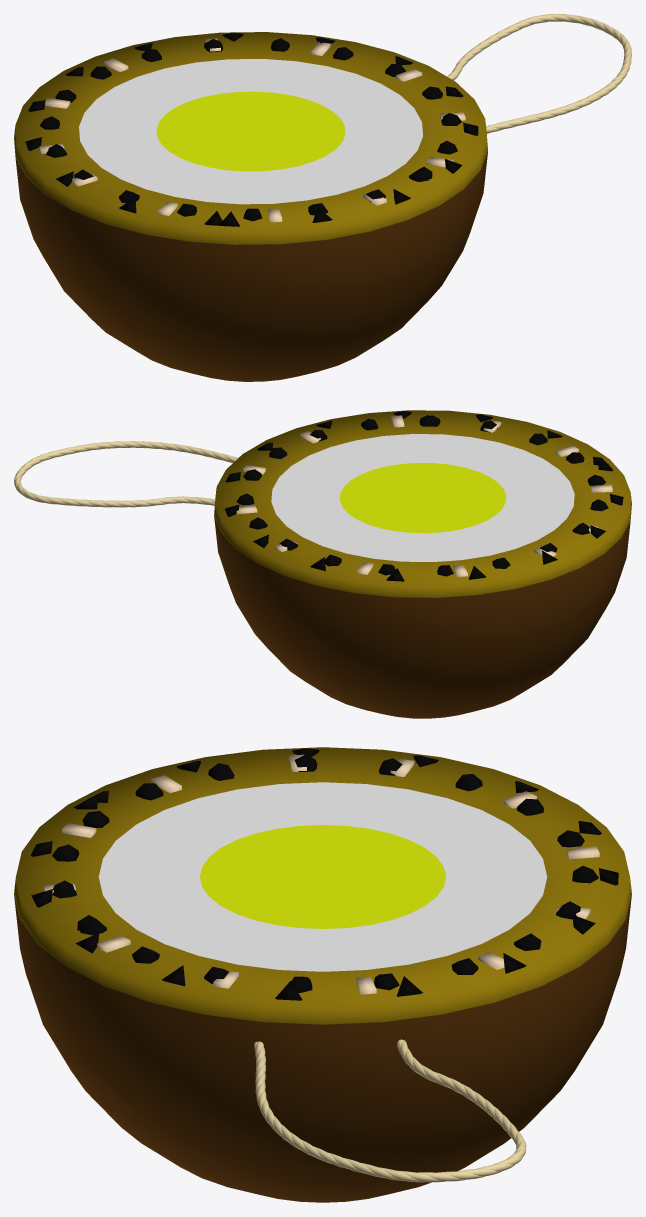
File: Kleierbal.fbx
3 views of the same model, one above another, from view 1: azimuth 30°, elevation 25°; view 2: azimuth 150°, elevation 25°; view 3: azimuth 270°, elevation 25° (orthographic). The views are drawn at different scales.
Parts seen in each view (by area): view 1: Eierbal, Seed1, Rope, Seed2, Seed3; view 2: Eierbal, Rope, Seed1, Seed2, Seed3; view 3: Eierbal, Seed1, Rope, Seed2, Seed3.
Part boxes in pixels (<box>): Eierbal: <box>14,32,487,381</box>; Seed1: <box>39,38,461,221</box>; Rope: <box>447,14,631,133</box>; Seed2: <box>25,32,478,226</box>; Seed3: <box>39,38,465,222</box>; Eierbal: <box>214,410,631,718</box>; Rope: <box>14,441,238,507</box>; Seed1: <box>236,415,608,576</box>; Seed2: <box>225,411,623,581</box>; Seed3: <box>236,415,612,576</box>; Eierbal: <box>14,747,631,1202</box>; Seed1: <box>52,755,598,992</box>; Rope: <box>254,1039,526,1182</box>; Seed2: <box>30,748,618,1000</box>; Seed3: <box>43,754,599,994</box>.
Size of the model in its own units: 299 by 111 by 200.
